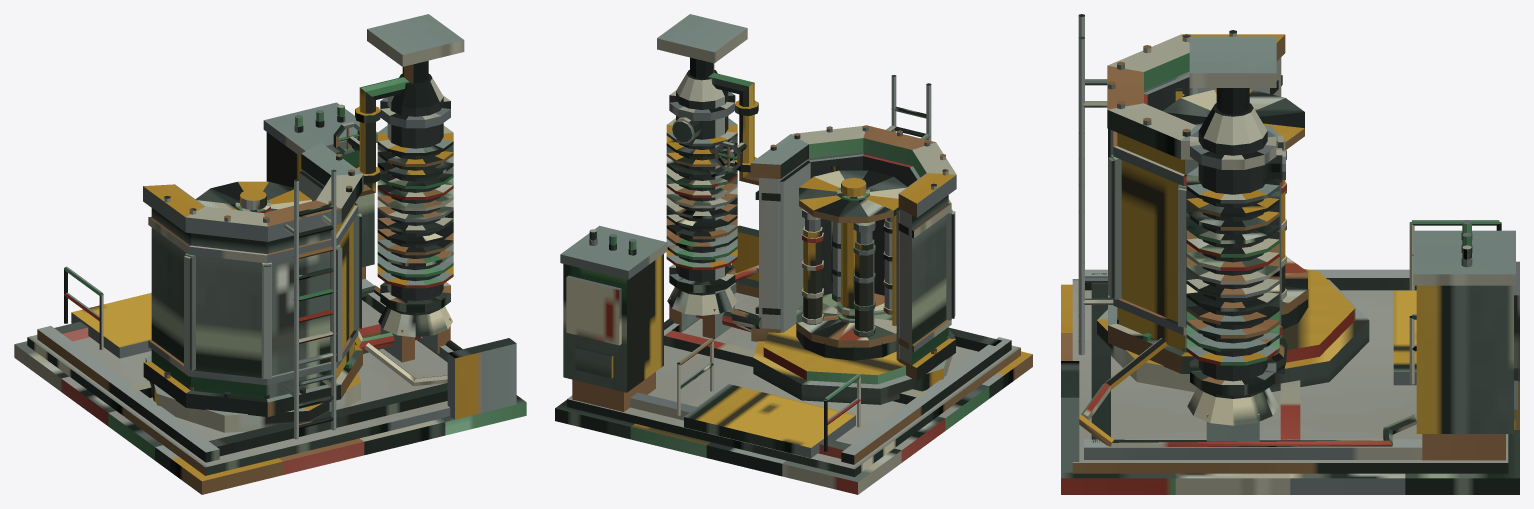
Rendered from irradiation_reactor_cutaway.obj.
The picture shows the model from 3 angles, left to right: view 1: azimuth 30°, elevation 25°; view 2: azimuth 150°, elevation 25°; view 3: azimuth 270°, elevation 25°; orthographic projection. The views are drawn at different scales.
Parts seen in each view (by area): view 1: shield_rear, foundation, bands_rear, cooling_tower, cooling_fins, base_frame, control_cabinet, access_ladder, ku_port, ribs_rear, heat_port, service_deck (+7 smaller); view 2: foundation, control_cabinet, bands_rear, shield_rear, sample_carousel, cooling_tower, cooling_fins, base_frame, vessel_floor, interior_liner, service_deck, target_capsules (+10 smaller); view 3: foundation, control_cabinet, cooling_tower, cooling_fins, bands_rear, shield_rear, base_frame, vessel_floor, heat_port, sample_carousel, cable_conduit, ribs_rear (+8 smaller).
Boxes of the visible parts, x1,y1,x2,y2 form: shield_rear: [151, 170, 354, 398]; foundation: [14, 300, 526, 494]; bands_rear: [143, 143, 363, 416]; cooling_tower: [378, 73, 452, 362]; cooling_fins: [377, 125, 453, 288]; base_frame: [37, 279, 453, 462]; control_cabinet: [263, 102, 377, 279]; access_ladder: [280, 169, 336, 439]; ku_port: [447, 338, 516, 419]; ribs_rear: [184, 213, 361, 378]; heat_port: [367, 14, 464, 83]; service_deck: [71, 293, 151, 358]; foundation: [555, 292, 1032, 494]; control_cabinet: [560, 225, 667, 411]; bands_rear: [750, 125, 956, 381]; shield_rear: [759, 152, 948, 365]; sample_carousel: [796, 170, 907, 360]; cooling_tower: [667, 70, 736, 339]; cooling_fins: [666, 118, 737, 269]; base_frame: [630, 273, 1011, 464]; vessel_floor: [753, 324, 953, 404]; interior_liner: [779, 154, 920, 360]; service_deck: [684, 384, 855, 458]; target_capsules: [802, 209, 892, 337]; foundation: [1061, 279, 1519, 494]; control_cabinet: [1413, 230, 1515, 460]; cooling_tower: [1187, 103, 1278, 441]; cooling_fins: [1186, 166, 1279, 365]; bands_rear: [1107, 30, 1285, 373]; shield_rear: [1117, 57, 1281, 351]; base_frame: [1084, 269, 1422, 459]; vessel_floor: [1097, 269, 1369, 391]; heat_port: [1189, 36, 1276, 114]; sample_carousel: [1163, 89, 1308, 329]; cable_conduit: [1079, 338, 1416, 446]; ribs_rear: [1108, 129, 1186, 327].
Size of the model in its own units: 4 by 4 by 4.
Materials: 1 (1 with a texture image).
